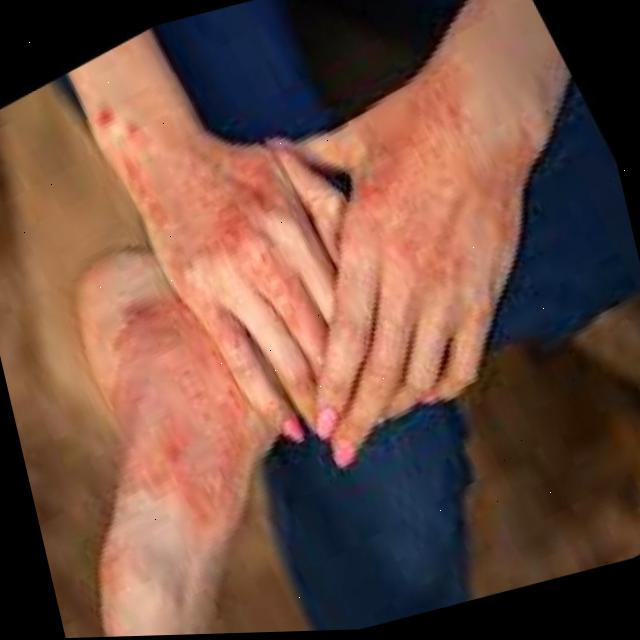Eczema: (91, 63, 346, 407), (310, 26, 564, 323), (87, 271, 261, 527)
